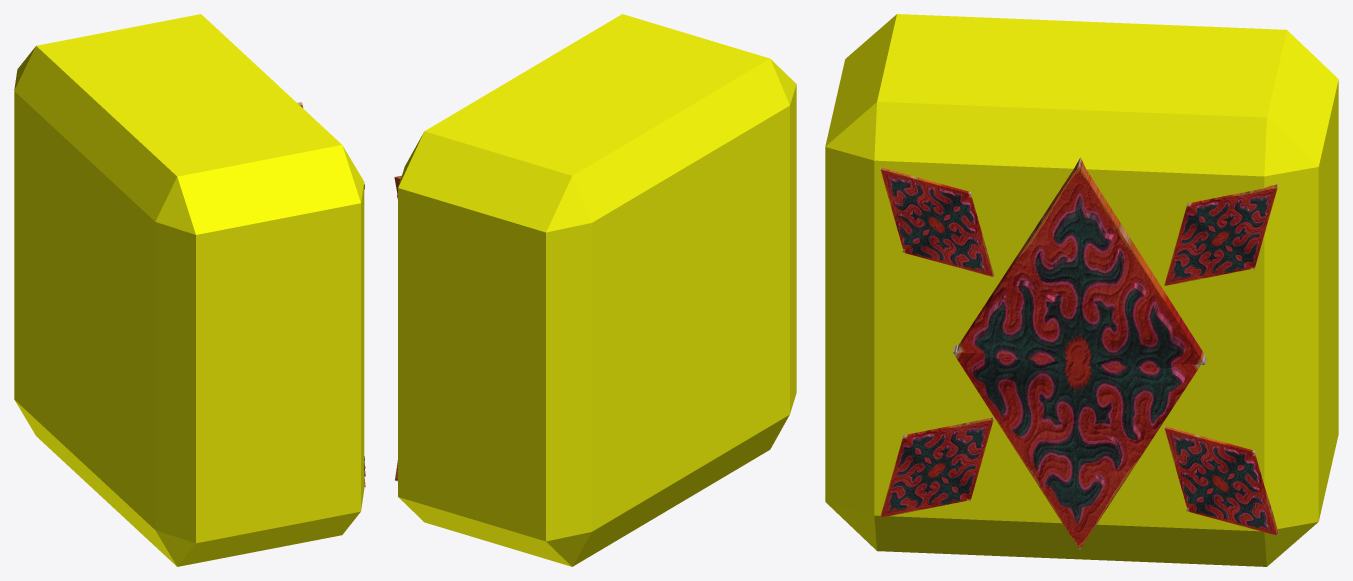
The picture shows the model from 3 angles, left to right: view 1: azimuth 30°, elevation 25°; view 2: azimuth 150°, elevation 25°; view 3: azimuth 270°, elevation 25°; orthographic projection. The views are drawn at different scales.
Parts seen in each view (by area): view 1: Cube.001; view 2: Cube.001; view 3: Cube.001, Tumblr.002.
Boxes of the visible parts, x1,y1,x2,y2 form: Cube.001: (14,14,364,566); Cube.001: (398,14,796,566); Cube.001: (825,14,1338,566); Tumblr.002: (880,157,1278,549).
Bounding box in the file's own units: 547 × 847 × 878.
